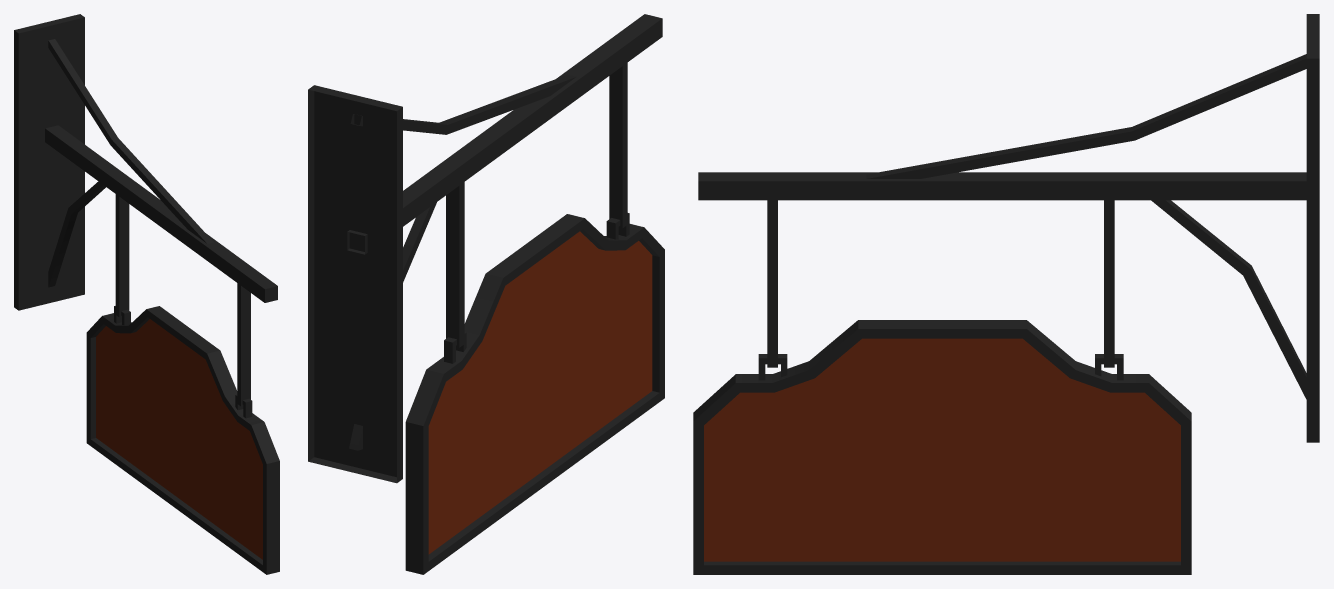
Rendered from Mesh_HangingStoreSign.fbx.
3 views of the same model, side by side, from view 1: azimuth 30°, elevation 25°; view 2: azimuth 150°, elevation 25°; view 3: azimuth 270°, elevation 25° (orthographic). The views are drawn at different scales.
Visible parts, largest first — view 1: HangingStoreSign; view 2: HangingStoreSign; view 3: HangingStoreSign.
Boxes of the visible parts, x1,y1,x2,y2 form: HangingStoreSign: [14, 14, 279, 574]; HangingStoreSign: [308, 14, 664, 574]; HangingStoreSign: [693, 14, 1319, 574].
Bounding box in the file's own units: 5 × 27.83 × 29.57.
